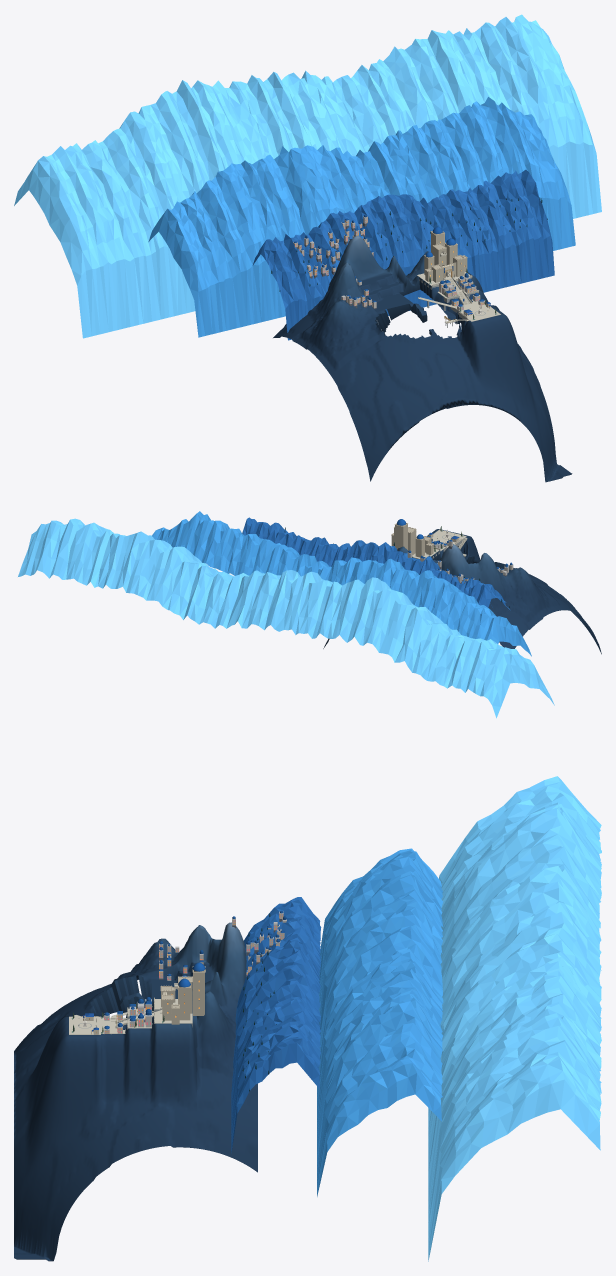
File: citadel-cliff-input-v3.glb
3 views of the same model, one above another, from view 1: azimuth 30°, elevation 25°; view 2: azimuth 150°, elevation 25°; view 3: azimuth 270°, elevation 25° (orthographic). The views are drawn at different scales.
Visible parts, largest first — view 1: citadel-backdrop-ridge-far, citadel-backdrop-ridge-mid, citadel-oskar-grid-mountain-surface, citadel-backdrop-ridge-near, target-castle-exterior, citadel-coastal-cliff-seal, citadel-target-hillside-houses-claude-exterior-0; view 2: citadel-backdrop-ridge-far, citadel-backdrop-ridge-mid, citadel-oskar-grid-mountain-surface, citadel-backdrop-ridge-near, target-castle-exterior; view 3: citadel-backdrop-ridge-far, citadel-oskar-grid-mountain-surface, citadel-backdrop-ridge-mid, citadel-backdrop-ridge-near, target-castle-exterior, citadel-coastal-cliff-seal, citadel-target-hillside-houses-claude-exterior-0.
Boxes of the visible parts, x1,y1,x2,y2 form: citadel-backdrop-ridge-far: [14, 14, 601, 338]; citadel-backdrop-ridge-mid: [148, 97, 575, 337]; citadel-oskar-grid-mountain-surface: [273, 235, 572, 482]; citadel-backdrop-ridge-near: [252, 169, 554, 340]; target-castle-exterior: [424, 231, 466, 282]; citadel-coastal-cliff-seal: [375, 277, 464, 336]; citadel-target-hillside-houses-claude-exterior-0: [293, 217, 376, 308]; citadel-backdrop-ridge-far: [18, 518, 554, 718]; citadel-backdrop-ridge-mid: [152, 511, 531, 656]; citadel-oskar-grid-mountain-surface: [323, 529, 601, 654]; citadel-backdrop-ridge-near: [242, 517, 510, 610]; target-castle-exterior: [391, 523, 433, 557]; citadel-backdrop-ridge-far: [428, 776, 601, 1261]; citadel-oskar-grid-mountain-surface: [14, 922, 257, 1261]; citadel-backdrop-ridge-mid: [317, 848, 443, 1196]; citadel-backdrop-ridge-near: [231, 897, 321, 1153]; target-castle-exterior: [161, 969, 205, 1024]; citadel-coastal-cliff-seal: [90, 975, 153, 1017]; citadel-target-hillside-houses-claude-exterior-0: [159, 914, 286, 980].
Bounding box in the file's own units: 564 × 290 × 443.
71 materials, 1 textured.
